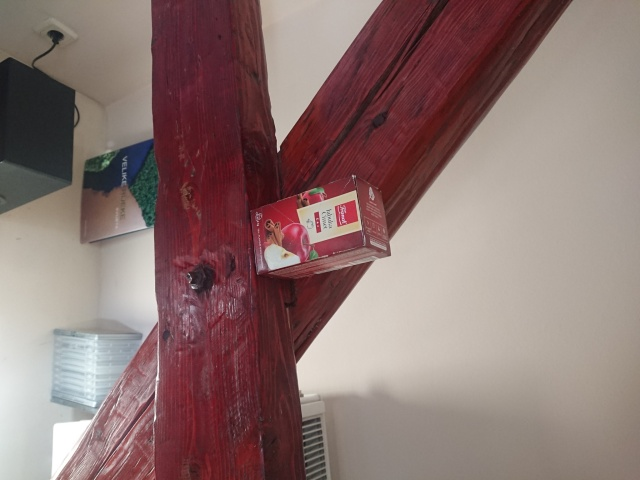Franck Apple Cinnamon Tea 60g: (247, 172, 393, 282)
